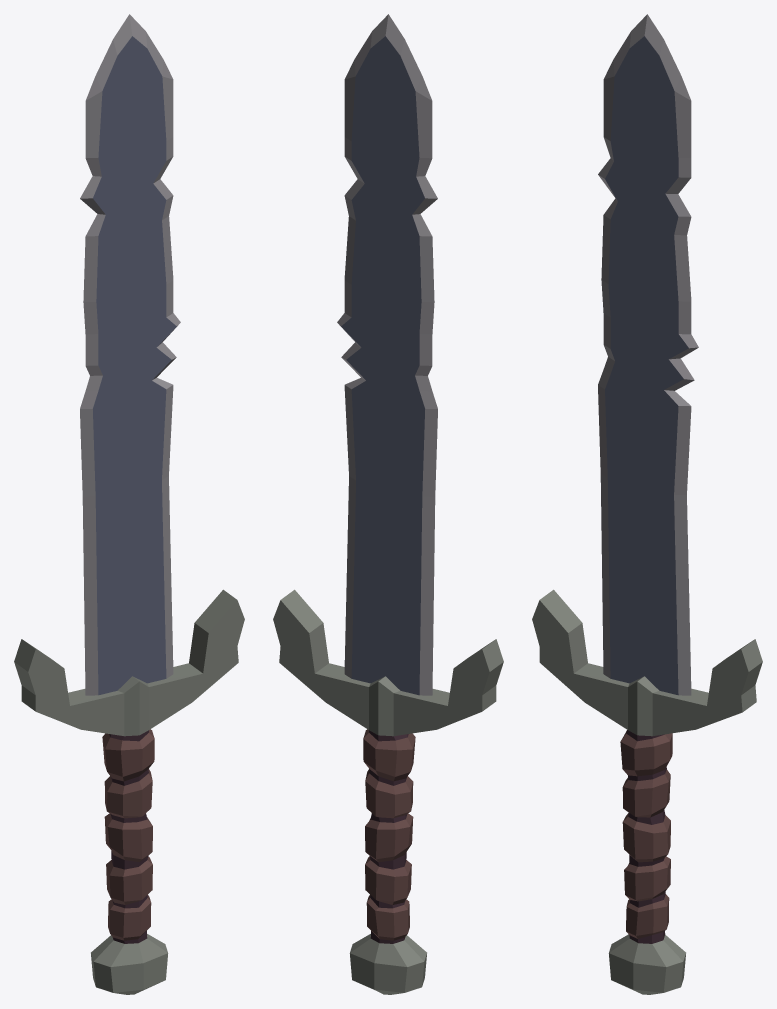
Rendered from Sword.glb.
3 renders of one model, left to right at view 1: azimuth 30°, elevation 25°; view 2: azimuth 150°, elevation 25°; view 3: azimuth 330°, elevation 25°, orthographic.
Visible parts, largest first — view 1: Sword_Cylinder.037; view 2: Sword_Cylinder.037; view 3: Sword_Cylinder.037.
Boxes of the visible parts, bbox=[...] form: Sword_Cylinder.037: bbox=[14, 14, 244, 994]; Sword_Cylinder.037: bbox=[273, 14, 503, 994]; Sword_Cylinder.037: bbox=[532, 14, 762, 994].
Size of the model in its own units: 0.5342 by 2.3 by 0.1222.
1 material, 1 textured.
